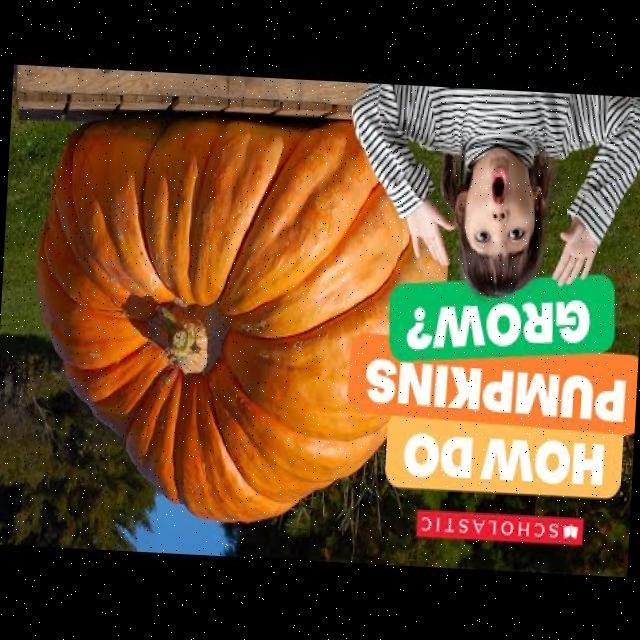pumpkin: (36, 116, 442, 521)
